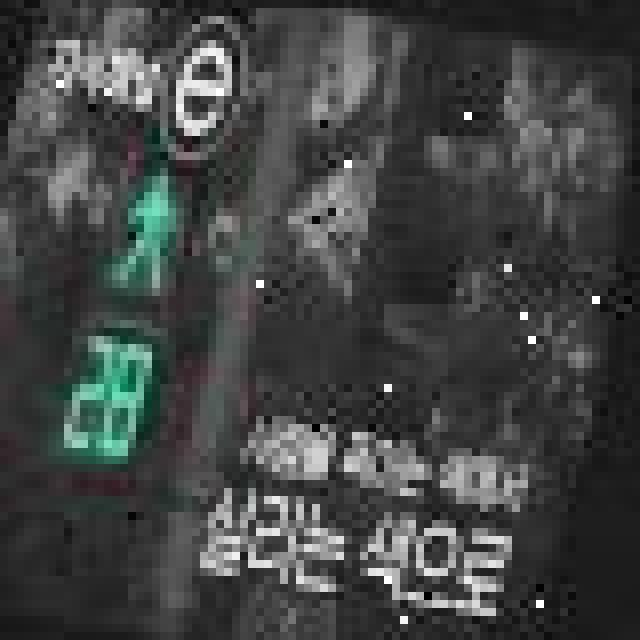greenlight: (24, 0, 256, 320)
